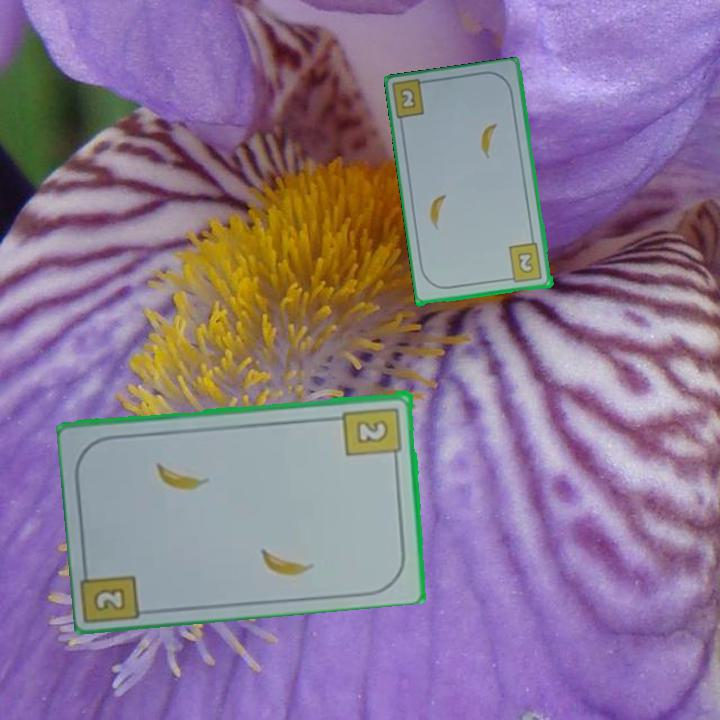2b: (340, 403, 405, 464), (503, 240, 545, 286), (89, 583, 129, 615), (396, 84, 419, 112)
